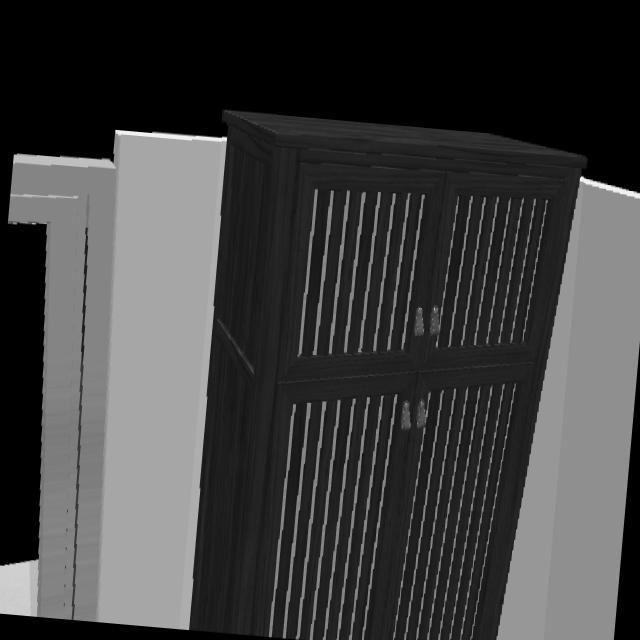wardrobe: (190, 111, 585, 640)
